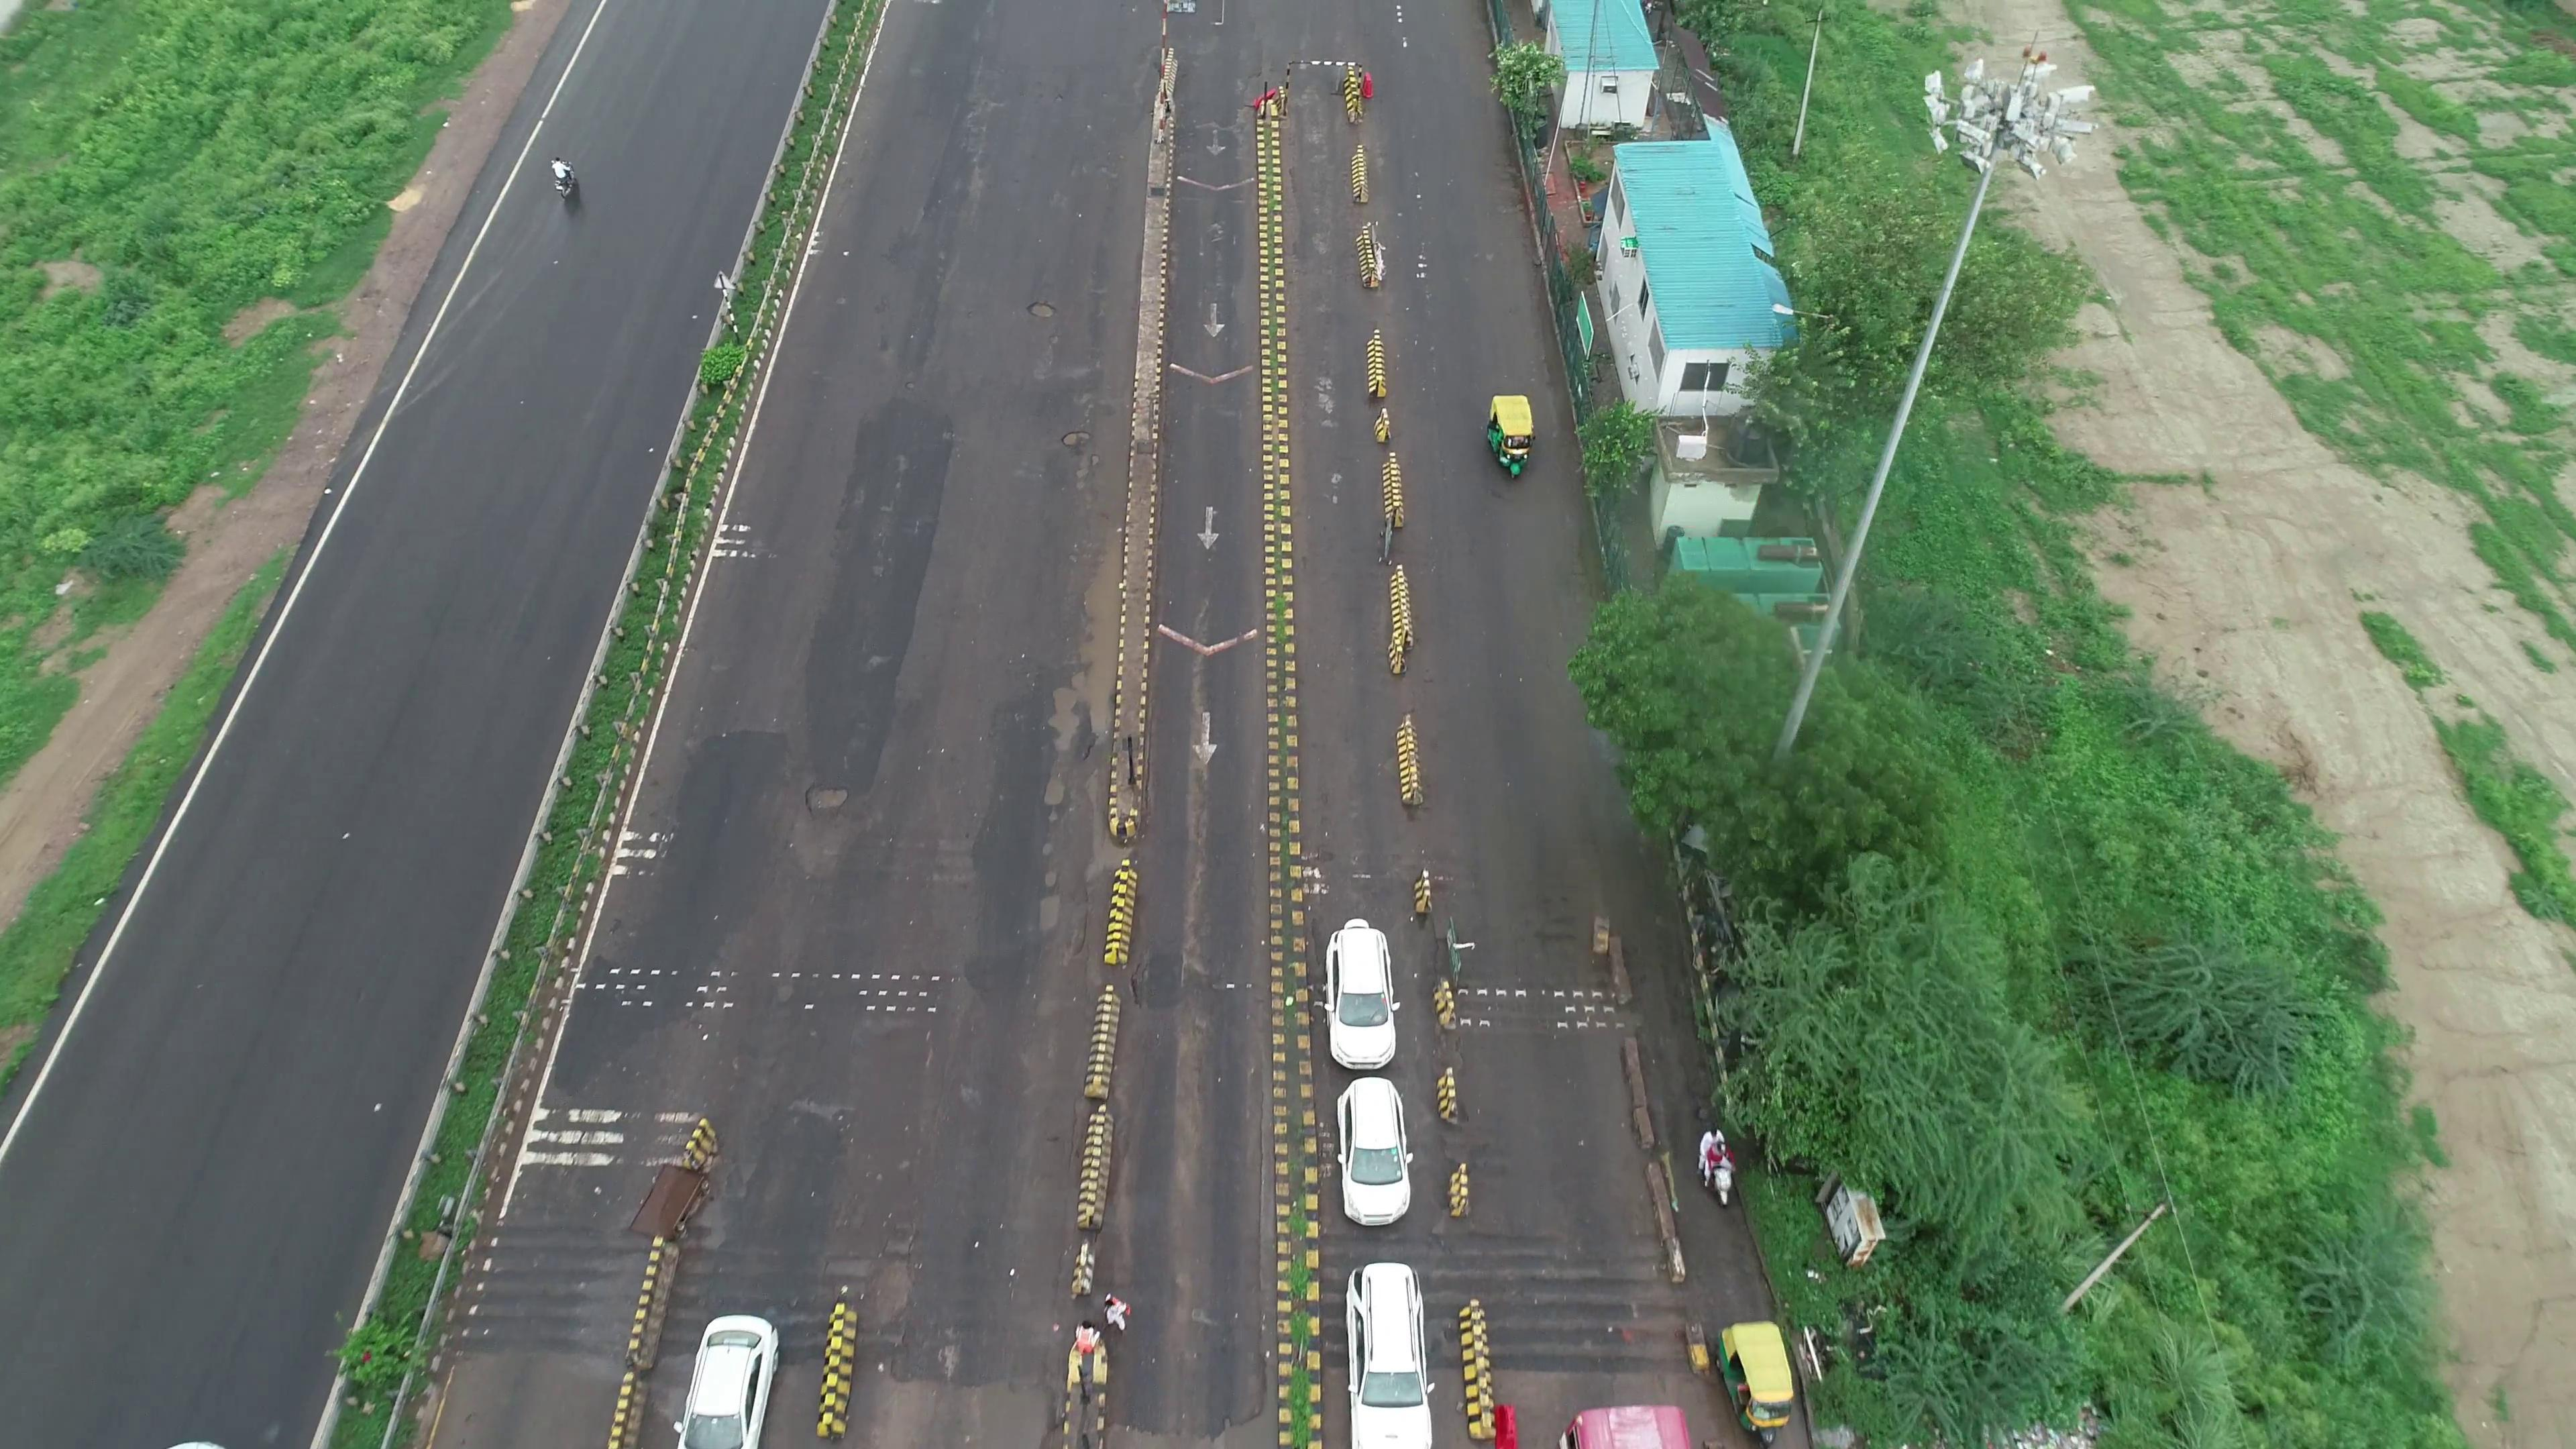Potholes: (1014, 782, 1076, 955), (985, 248, 1076, 349), (1019, 400, 1111, 492), (773, 757, 867, 833)
